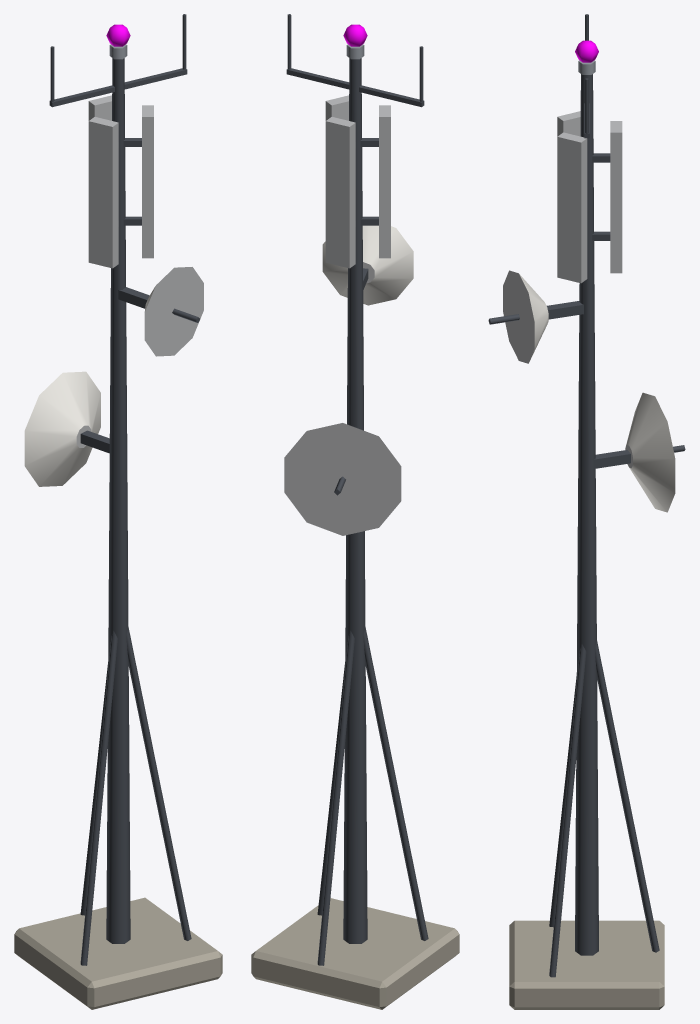
The model's file is roof_antenna.glb.
The picture shows the model from 3 angles, left to right: view 1: azimuth 30°, elevation 25°; view 2: azimuth 150°, elevation 25°; view 3: azimuth 270°, elevation 25°; orthographic projection.
Visible parts, largest first — view 1: roof_antenna__mesh; view 2: roof_antenna__mesh; view 3: roof_antenna__mesh.
Part boxes in pixels (box(x1,y1,x2,y2)): roof_antenna__mesh: box(14, 14, 222, 1009); roof_antenna__mesh: box(251, 14, 459, 1009); roof_antenna__mesh: box(488, 14, 685, 1009).
Bounding box in the file's own units: 0.9174 × 6 × 1.14.
Materials: 1 (1 with a texture image).
